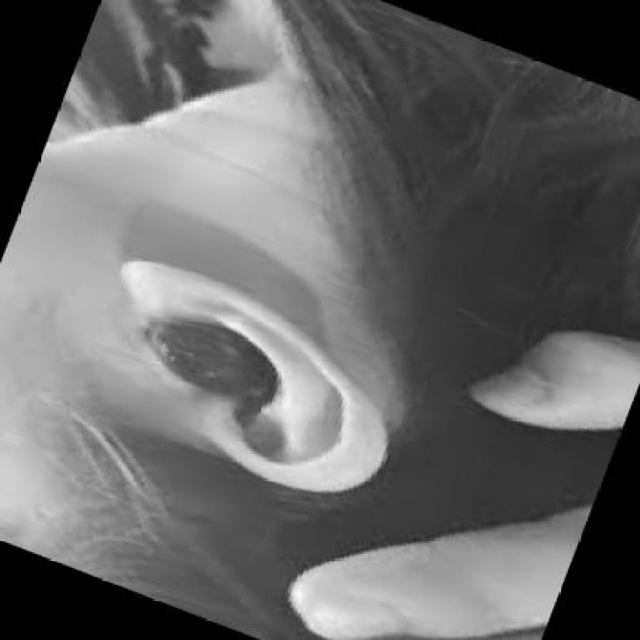earphone: (129, 305, 305, 446)
